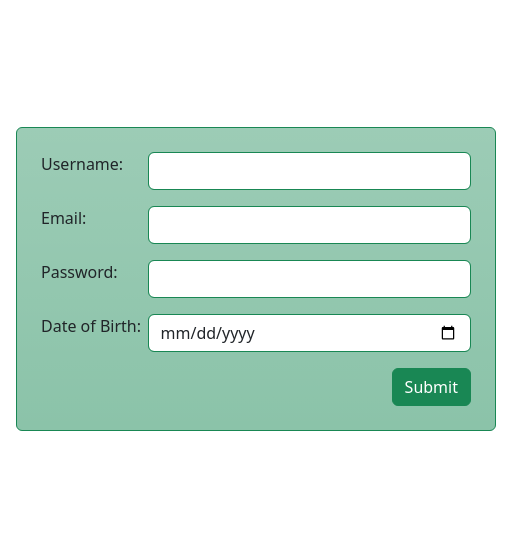
it: Registration form functionality after correct data submission › displays a field with username, email, date of birth and age labels
Type "marius" into the field with test id "username" at (310, 171), box [148, 152, 472, 190]
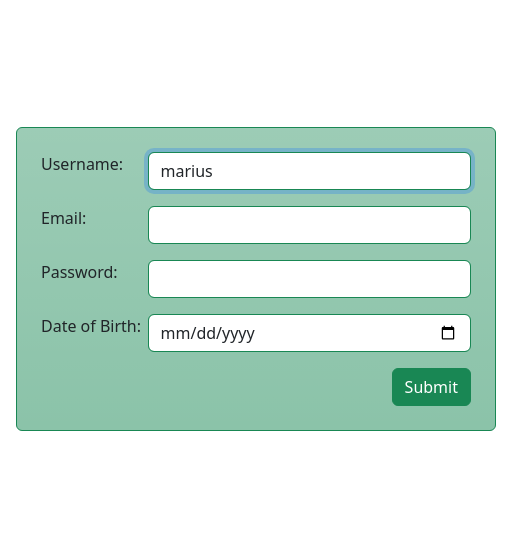
Type "marius@gmail.com" into the field with test id "email" at (310, 225), box [148, 206, 472, 244]
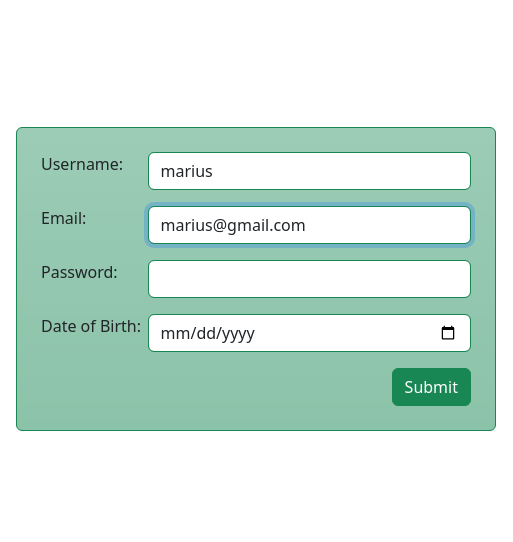
Type "mariuxas" into the password field with test id "password" at (310, 279), box [148, 260, 472, 298]
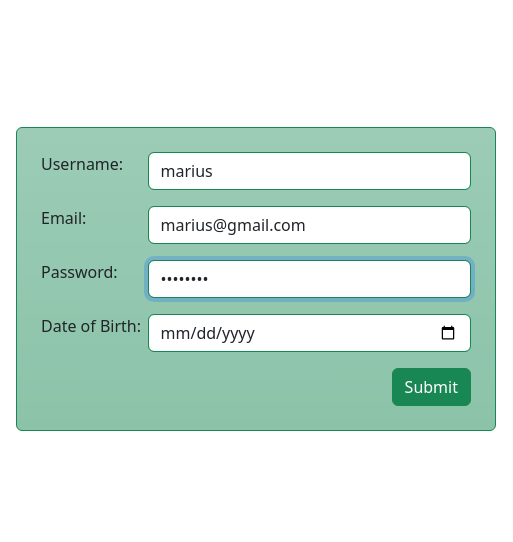
Type "1996-06-07" into the date field with test id "date-of-birth" at (310, 333), box [148, 314, 472, 352]
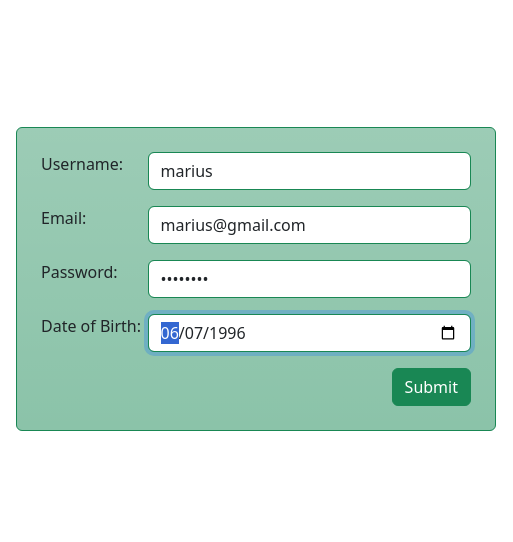
Click the button with test id "submit" at (432, 387), box [392, 368, 471, 406]
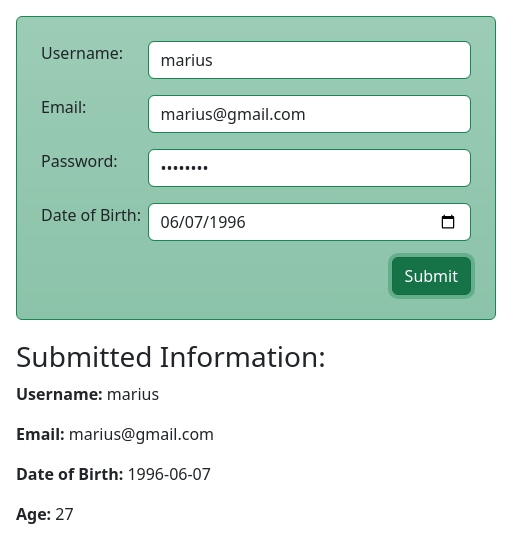
Expected: the element with test id "submitted-info" is shown, [16, 337, 326, 525]
Expected: the text "Username:" is shown, [16, 383, 107, 405]
Expected: the text "Email:" is shown, [16, 423, 69, 445]
